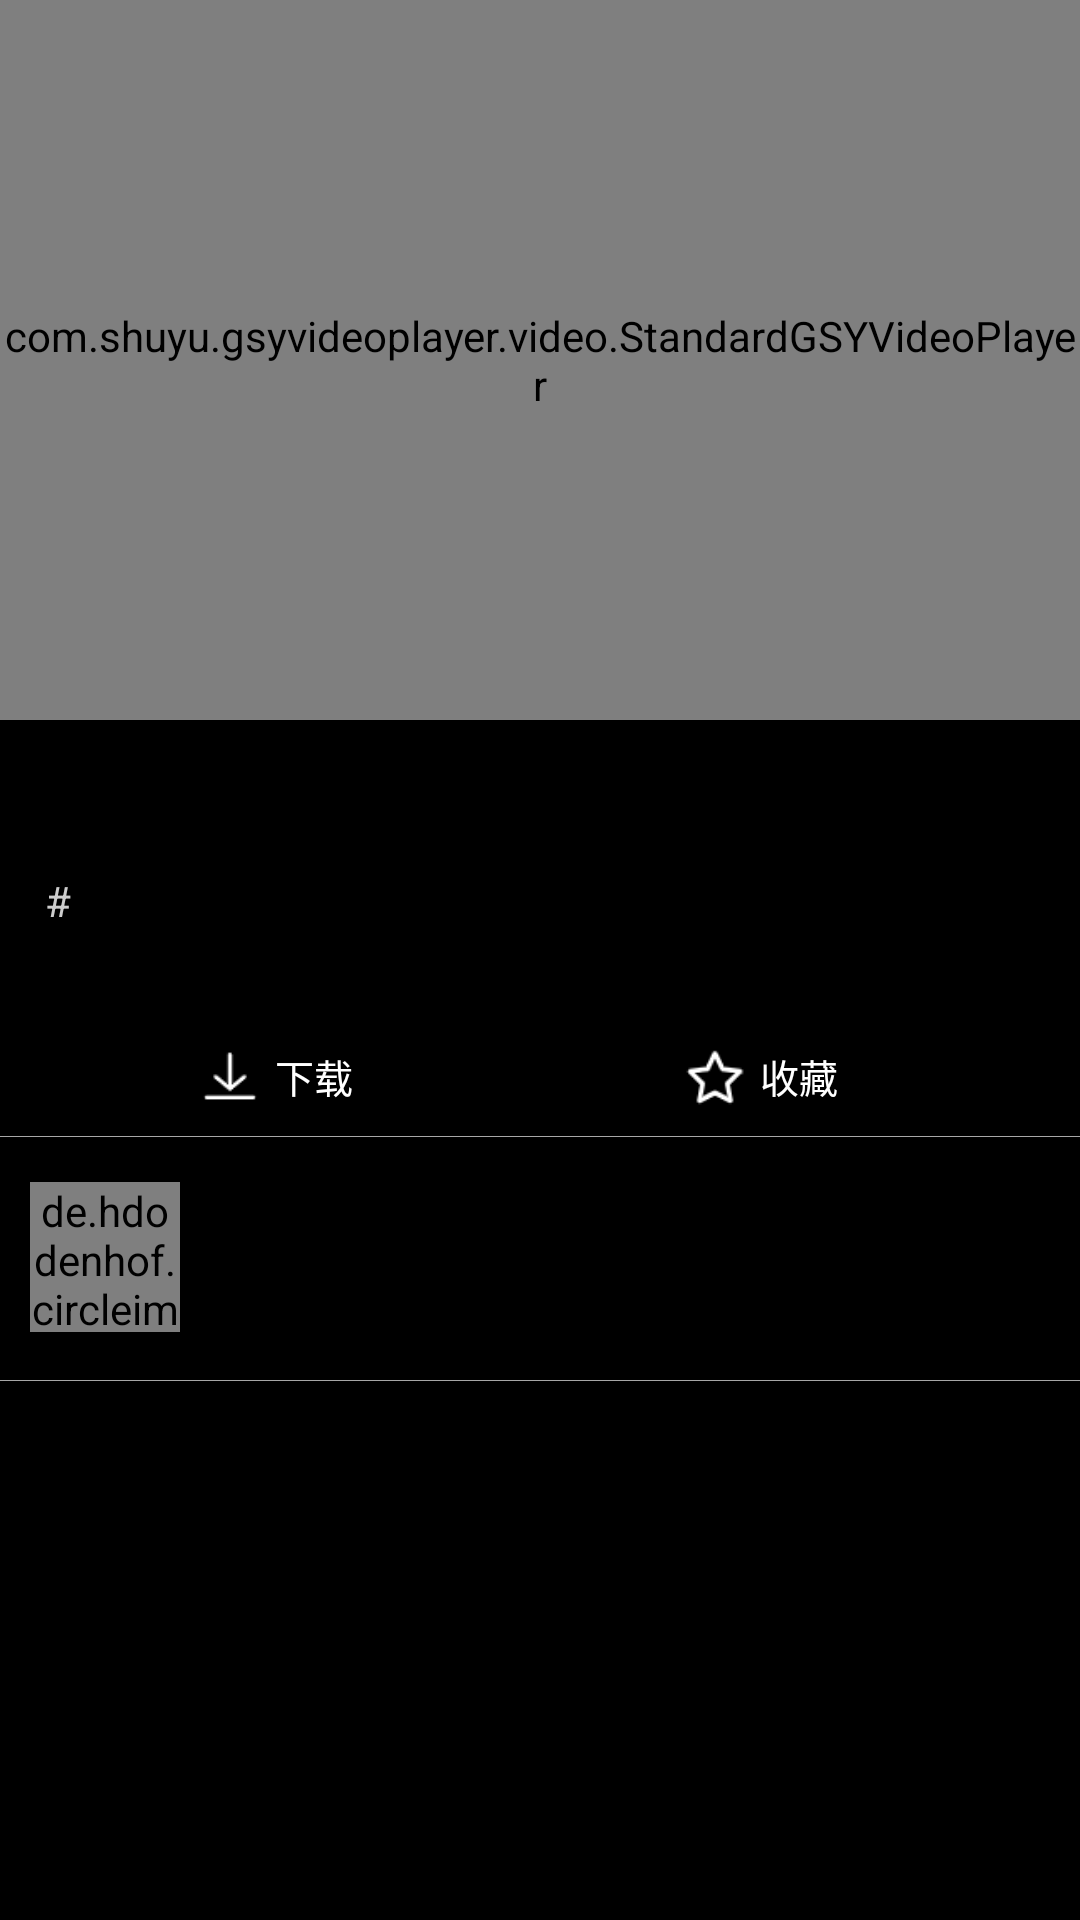

Where to tap for icons on this 1080px×1920px app screen, as (x=x, y=y):
like: (x=715, y=1077)
